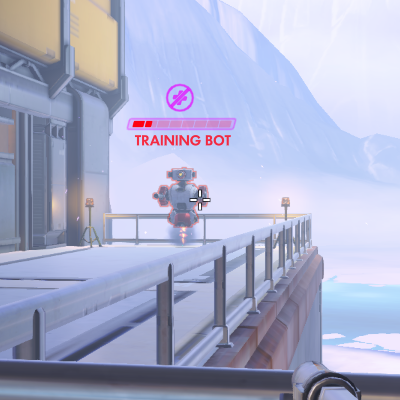hpbar: (132, 120, 232, 127)
